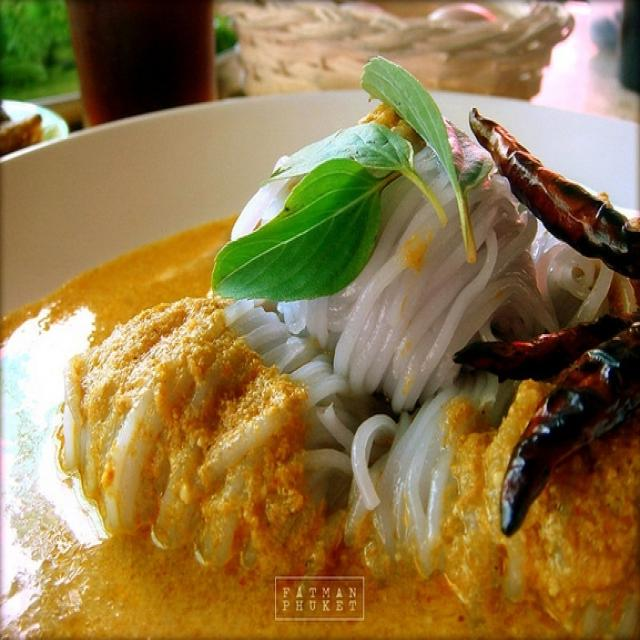面条主食: (8, 44, 619, 628)
